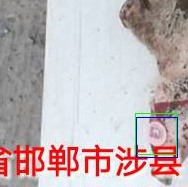text: (135, 113, 176, 154)
